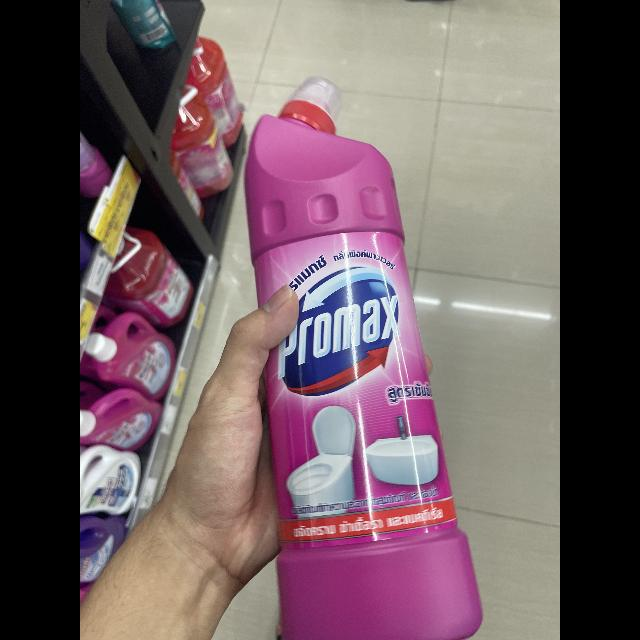chemical_plastic_bottle: (238, 72, 488, 640)
